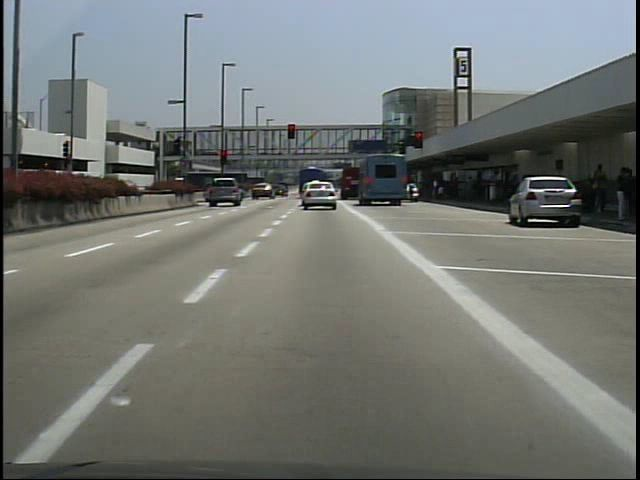person: (591, 165, 607, 215)
